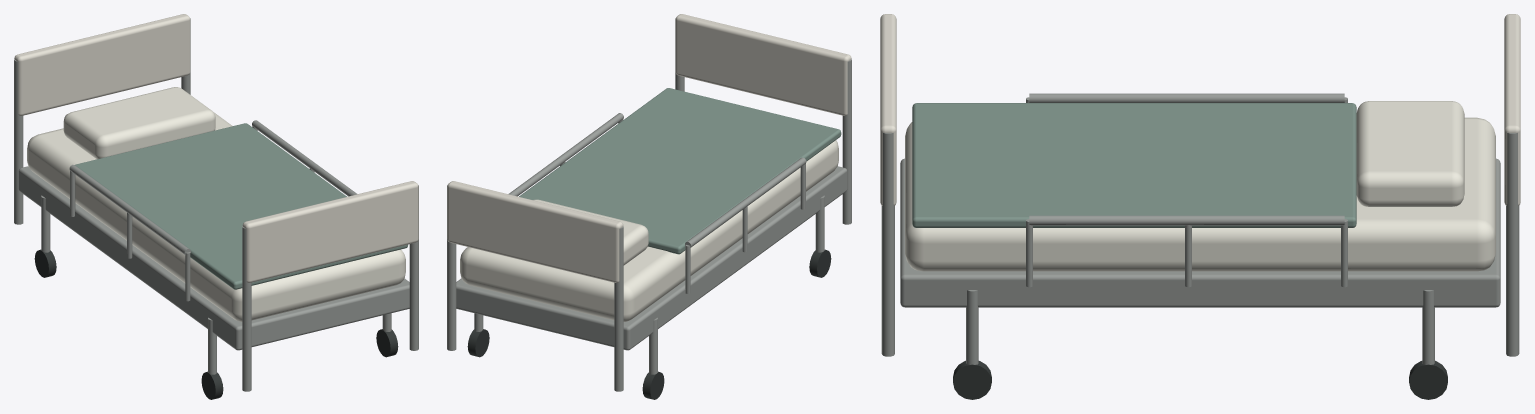
Rendered from hospitalBed.glb.
The picture shows the model from 3 angles, left to right: view 1: azimuth 30°, elevation 25°; view 2: azimuth 150°, elevation 25°; view 3: azimuth 270°, elevation 25°; orthographic projection. The views are drawn at different scales.
Parts seen in each view (by area): view 1: Rounded bed end (×2), Folded cotton blanket, Mattress with rounded seams, Bed chassis, Pillow, End upright (×3), Safety rail (×2), Brake caster (×3), Caster leg (×2); view 2: Folded cotton blanket, Rounded bed end (×2), Mattress with rounded seams, Bed chassis, End upright (×3), Safety rail (×2), Brake caster (×3), Pillow, Caster leg (×2); view 3: Folded cotton blanket, Mattress with rounded seams, Bed chassis, Pillow, Safety rail (×2), End upright (×2), Rounded bed end (×2), Brake caster (×2), Caster leg (×2).
Part boxes in pixels (x1,y1,x2,y2): Rounded bed end (×2): (14,14,418,282); Folded cotton blanket: (75,123,407,289); Mattress with rounded seams: (27,112,405,321); Bed chassis: (18,166,409,350); Pillow: (63,87,215,159); End upright (×3): (14,59,418,391); Safety rail (×2): (69,120,357,254); Brake caster (×3): (34,249,398,399); Caster leg (×2): (41,195,216,374); Folded cotton blanket: (519,88,841,254); Rounded bed end (×2): (447,14,851,282); Mattress with rounded seams: (460,140,838,321); Bed chassis: (456,166,847,350); End upright (×3): (447,59,851,391); Safety rail (×2): (508,113,806,247); Brake caster (×3): (467,249,831,399); Pillow: (533,199,648,265); Caster leg (×2): (649,195,824,374); Folded cotton blanket: (912,103,1356,227); Mattress with rounded seams: (905,117,1495,271); Bed chassis: (900,158,1500,307); Pillow: (1356,101,1464,206); Safety rail (×2): (1029,93,1344,225); End upright (×2): (881,132,1519,356); Rounded bed end (×2): (880,14,1520,205); Brake caster (×2): (953,360,1447,399); Caster leg (×2): (966,290,1434,364).
Bounding box in the file's own units: 0.9923 × 0.99 × 2.13.
